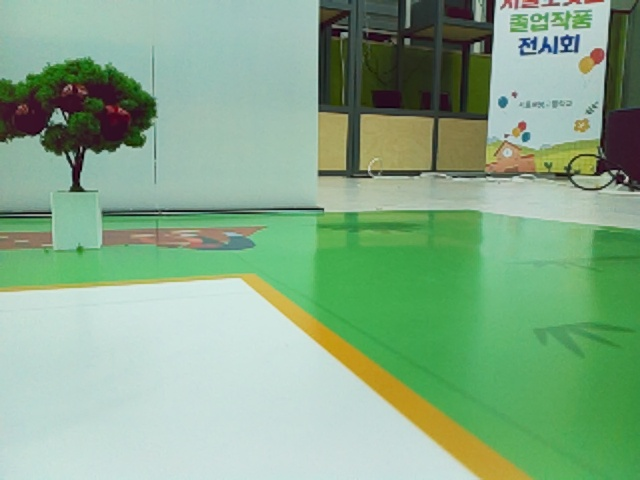apple: (591, 49, 604, 64)
